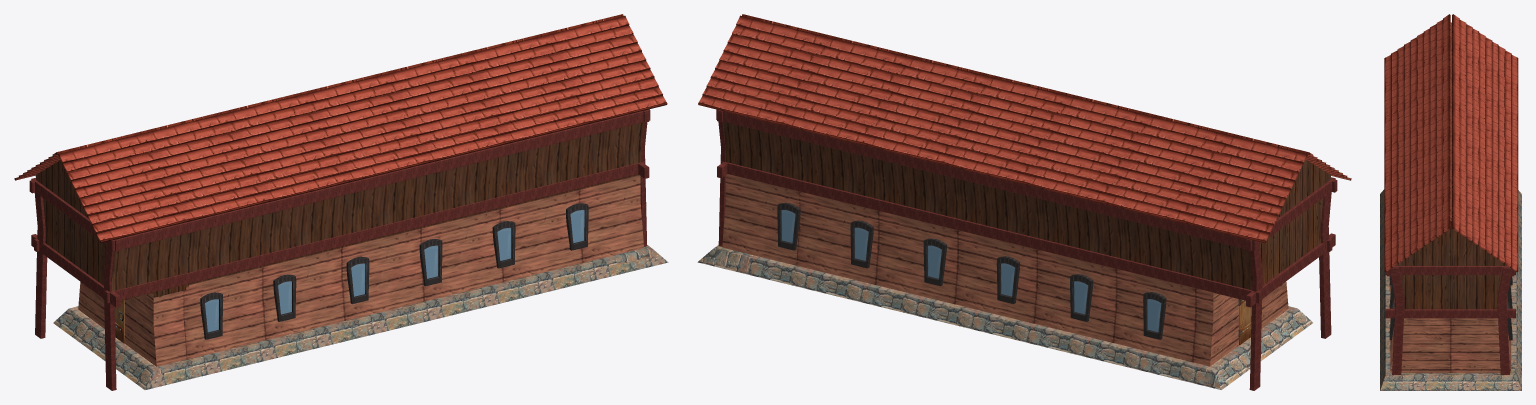
Rendered from building 5 new.FBX.
3 renders of one model, left to right at view 1: azimuth 30°, elevation 25°; view 2: azimuth 150°, elevation 25°; view 3: azimuth 270°, elevation 25°, orthographic. The views are drawn at different scales.
Parts seen in each view (by area): view 1: Box042, Plane637, Group002, Box911, Plane660, Box923, Box921, Box922, Box920, Box919, Box924; view 2: Box042, Plane660, Group002, Box911, Plane637, Box930, Box929, Box925, Box926, Box927, Box928; view 3: Plane660, Plane637, Box042, Box911, Group002.
Part boxes in pixels (x1=…): Box042: x1=35, y1=122, x2=643, y2=366; Plane637: x1=58, y1=15, x2=667, y2=242; Group002: x1=29, y1=109, x2=650, y2=390; Box911: x1=53, y1=245, x2=668, y2=389; Plane660: x1=14, y1=14, x2=623, y2=180; Box923: x1=492, y1=221, x2=515, y2=268; Box921: x1=346, y1=256, x2=369, y2=304; Box922: x1=419, y1=239, x2=442, y2=286; Box920: x1=273, y1=274, x2=296, y2=321; Box919: x1=200, y1=292, x2=223, y2=339; Box924: x1=566, y1=203, x2=588, y2=250; Box042: x1=722, y1=121, x2=1330, y2=366; Plane660: x1=698, y1=15, x2=1307, y2=243; Group002: x1=716, y1=109, x2=1337, y2=390; Box911: x1=697, y1=245, x2=1312, y2=389; Plane637: x1=742, y1=14, x2=1351, y2=180; Box930: x1=1143, y1=292, x2=1166, y2=339; Box929: x1=1070, y1=274, x2=1093, y2=321; Box925: x1=777, y1=202, x2=800, y2=250; Box926: x1=850, y1=220, x2=873, y2=268; Box927: x1=923, y1=238, x2=946, y2=286; Box928: x1=996, y1=256, x2=1019, y2=303; Plane660: x1=1452, y1=14, x2=1518, y2=272; Plane637: x1=1384, y1=14, x2=1450, y2=272; Box042: x1=1390, y1=22, x2=1511, y2=373; Box911: x1=1380, y1=189, x2=1521, y2=390; Group002: x1=1385, y1=266, x2=1515, y2=374.
Bounding box in the file's own units: 1900 × 684 × 534.
